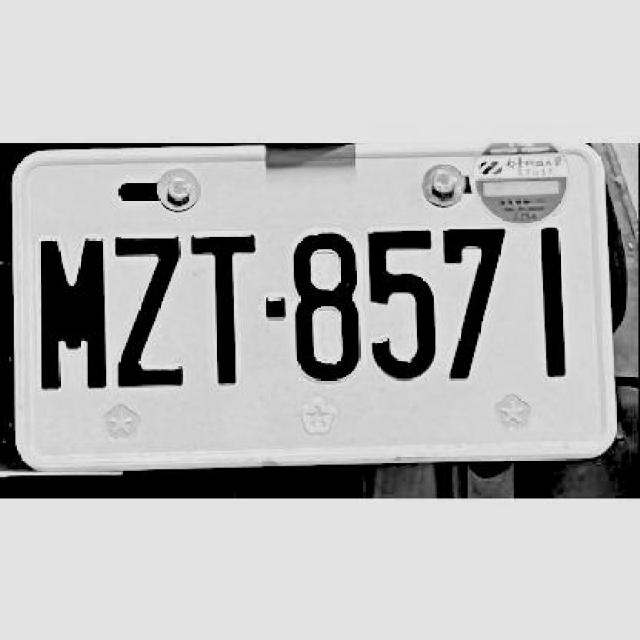-: (264, 297, 288, 318)
1: (540, 225, 568, 380)
5: (366, 228, 440, 388)
7: (443, 226, 512, 377)
8: (291, 223, 363, 383)
M: (34, 231, 111, 391)
T: (188, 230, 263, 388)
Z: (109, 228, 188, 392)
